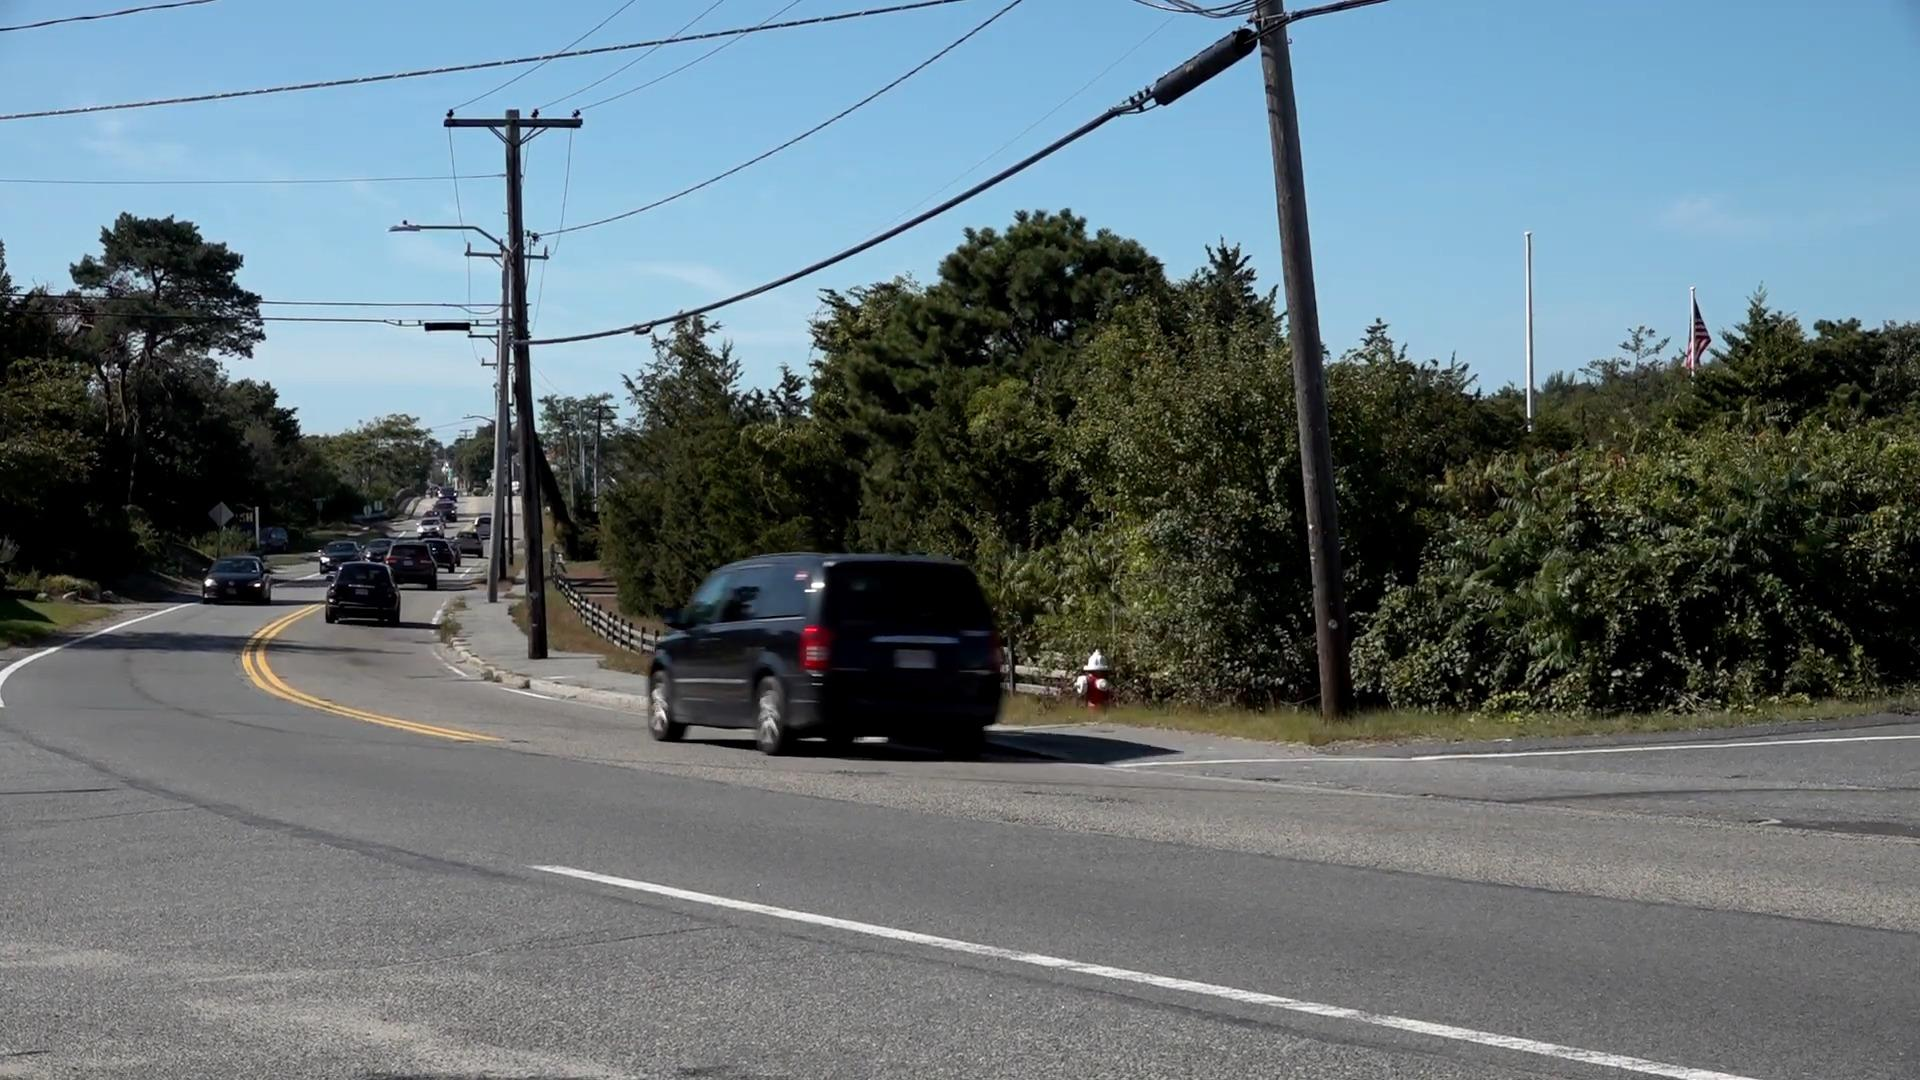minivan: (650, 555, 1006, 762)
sedans: (207, 555, 270, 601)
suv: (323, 558, 402, 626)
